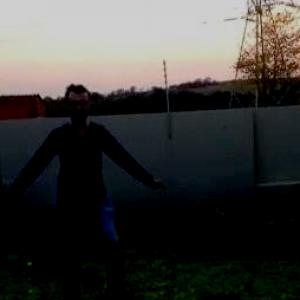land: (21, 94, 141, 270)
